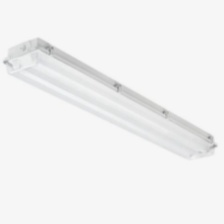light_bulb: (27, 53, 214, 155), (10, 60, 197, 158)
